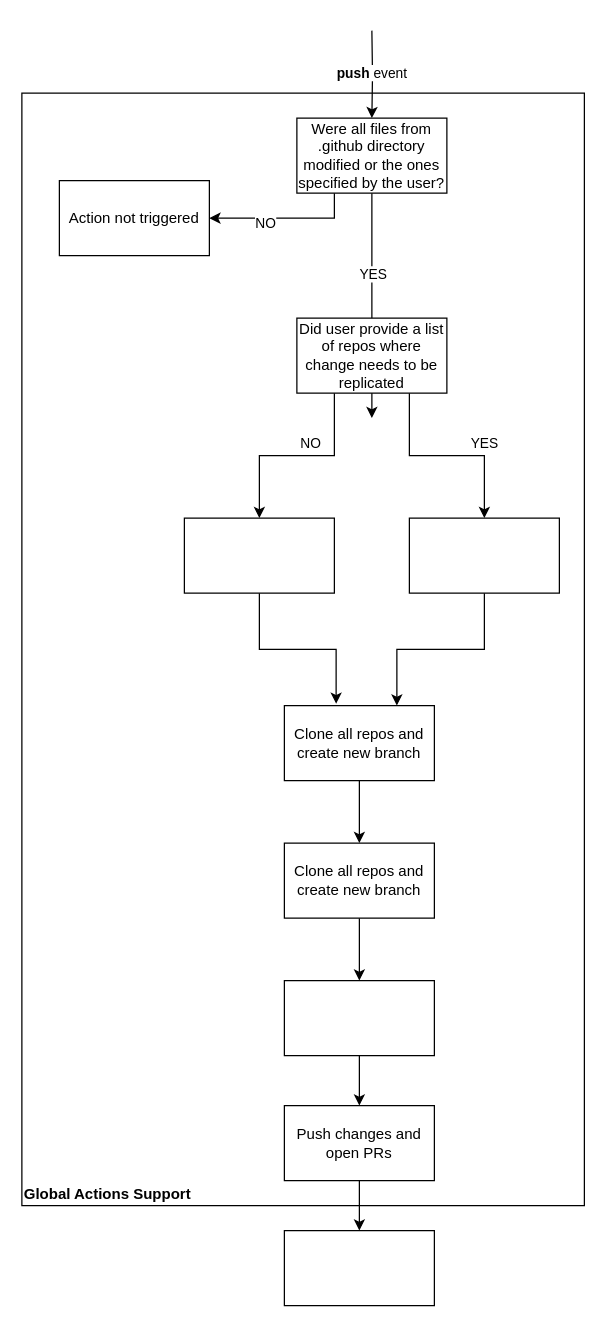
This 606x1328 diagram has some shape labels left out. The box of each missing label's shape, as (x1, y1, x2, y2) in pixels:
Autoapprove and Automerge PR: (283, 1229, 434, 1306)
Copy changes over to the same location in cloned repos: (283, 979, 434, 1056)
Get from API list of all repos from organization where action runs: (183, 517, 334, 593)
Get list of repos provided by user: (408, 517, 559, 593)
